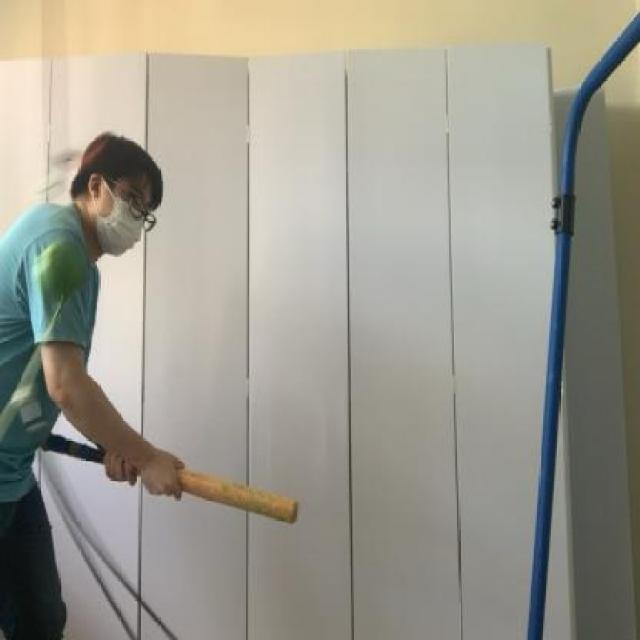baseball: (36, 233, 92, 304)
